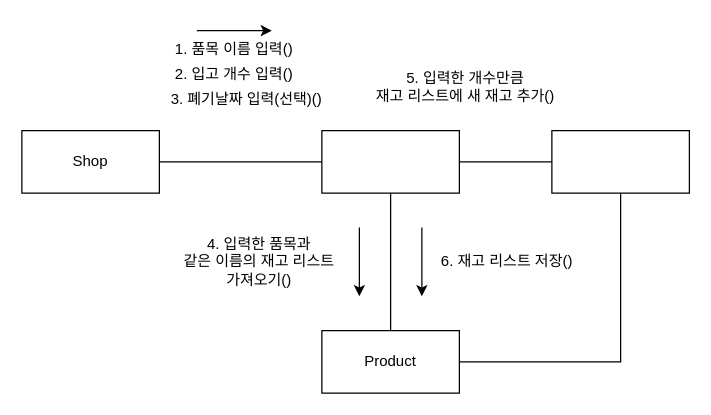
Image size: 711x415. Some labels were removed from this diagram. The shapes that lost their labels are listed below. From the top down, each one's centre as x and y in pixels, then its label:
the point at 390,161: Inventory
the point at 620,161: Stock
